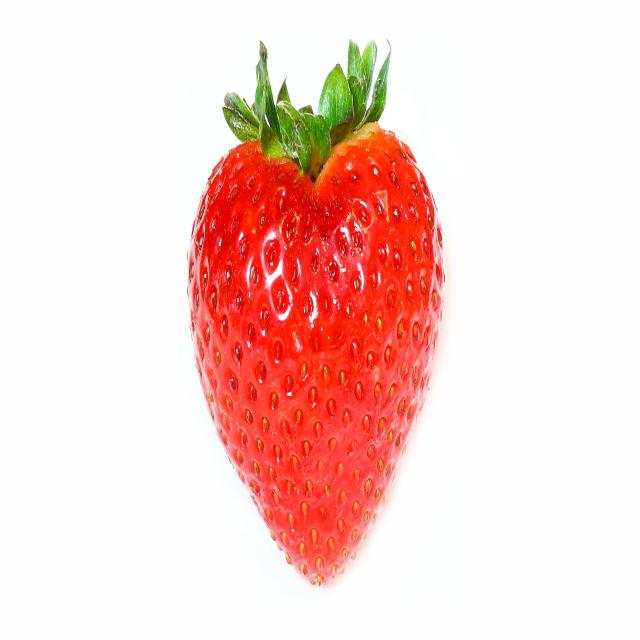strawberry: (180, 15, 456, 610)
